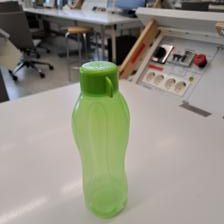bottle: (70, 59, 129, 218)
